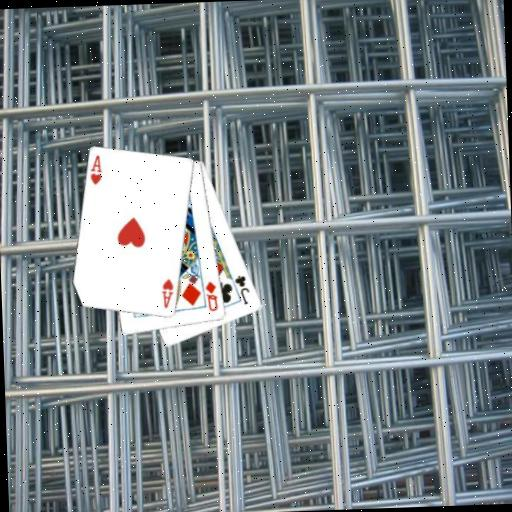AH: (158, 275, 176, 309), (86, 152, 104, 186)
JC: (231, 271, 251, 306)
QD: (202, 277, 220, 313)
